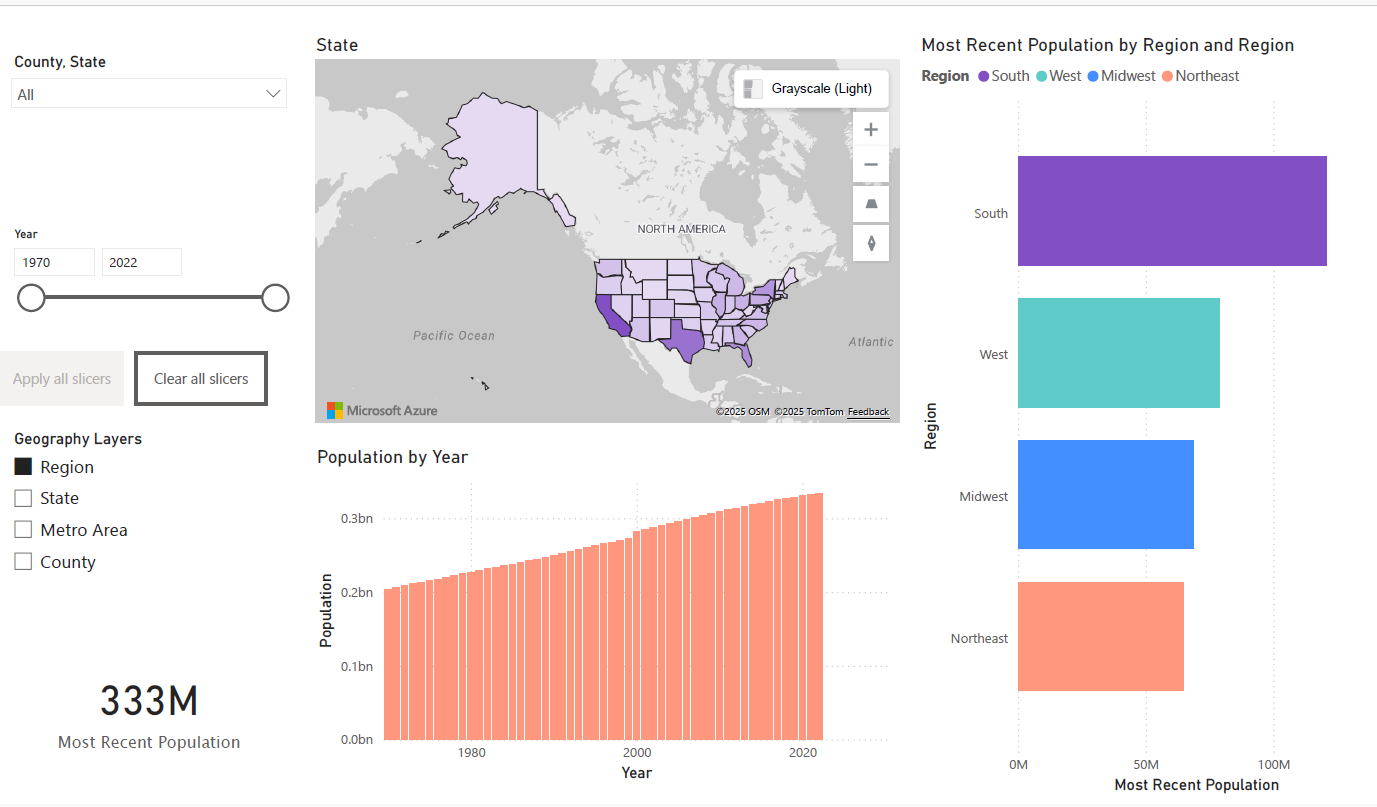

Layout of this report page (visuals, bound fields, positions):
{"tool":"powerbi","page":{"name":"Summary","canvas":[1280,720],"ordinal":1},"visuals":[{"type":"card","fields":{"Values":["Calculations.Most Recent Population"]},"box":[0,553.7,272.9,166.7],"z":0},{"type":"slicer","fields":{"Values":["Counties.County","States.State"]},"box":[0,32.7,272.9,149.8],"z":1000},{"type":"slicer","fields":{"Values":["Population.Year.Variation.Date Hierarchy.Year"]},"box":[0,191.5,272.9,103.2],"z":2000},{"type":"actionButton","box":[0,310.6,113.1,49.6],"z":3000},{"type":"actionButton","box":[123,310.6,122,49.6],"z":4000},{"type":"slicer","fields":{"Values":["Geography Layers.Geography Layers"]},"box":[0,378,272.9,153.8],"z":5000},{"type":"barChart","fields":{"Category":["States.Region","States.State","Metropolitan Areas.Metro Area","Counties.County"],"Y":["Calculations.Most Recent Population"],"Series":["States.Region"]},"box":[838.4,19.8,441.6,700.5],"z":6000},{"type":"columnChart","fields":{"Category":["Population.Year.Variation.Date Hierarchy.Year"],"Y":["Calculations.Population"]},"box":[284.5,397.3,544.5,312.7],"z":7000},{"type":"azureMap","fields":{"Category":["Counties.Geography.State","Counties.Geography.County"]},"box":[284.4,20,544.4,361.1],"z":8000}]}

Visuals, with their boxes on the page's 1280x720 design canvas (x1, y1, x2, y2). These are canvas units, not pixel positions in the 1377x807 screenshot, which may show the page scaled, cropped or inside an application window:
card - Calculations.Most Recent Population: [0,554,273,720]
slicer - Counties.County x States.State: [0,33,273,182]
slicer - Population.Year.Variation.Date Hierarchy.Year: [0,192,273,295]
actionButton: [0,311,113,360]
actionButton: [123,311,245,360]
slicer - Geography Layers.Geography Layers: [0,378,273,532]
barChart - States.Region x States.State: [838,20,1280,720]
columnChart - Population.Year.Variation.Date Hierarchy.Year x Calculations.Population: [284,397,829,710]
azureMap - Counties.Geography.State x Counties.Geography.County: [284,20,829,381]
